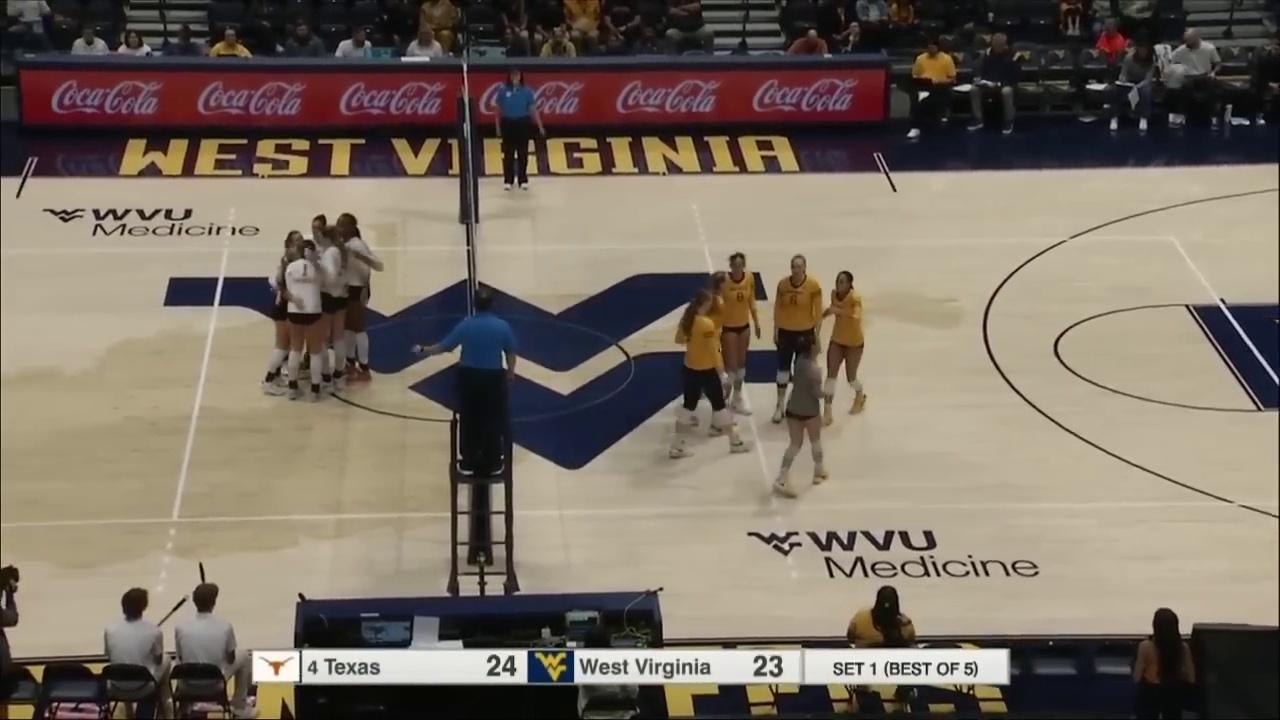player: (667, 292, 754, 463), (771, 259, 830, 426), (774, 335, 829, 492), (715, 253, 761, 419), (685, 269, 731, 435), (284, 242, 331, 401), (823, 269, 869, 414), (337, 212, 373, 386), (269, 246, 306, 396), (317, 227, 349, 394), (279, 235, 309, 390), (309, 212, 336, 378)
refree: (436, 290, 517, 477), (490, 69, 539, 192)
